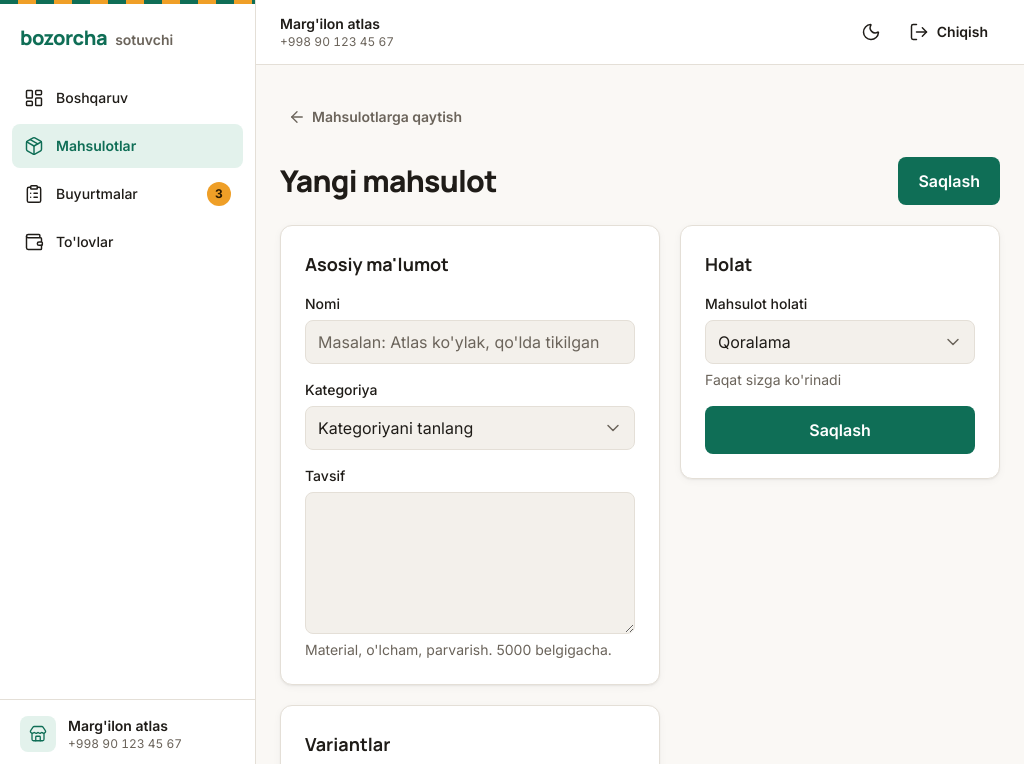
Test: ProductEditorPage: saving › keeps the draft and says why when the activation is refused
The width and height of the screenshot is (1024, 764).
Step 1. Type "Choynak" into the field labelled "Nomi" → (470, 342), box 305,320 -> 635,364
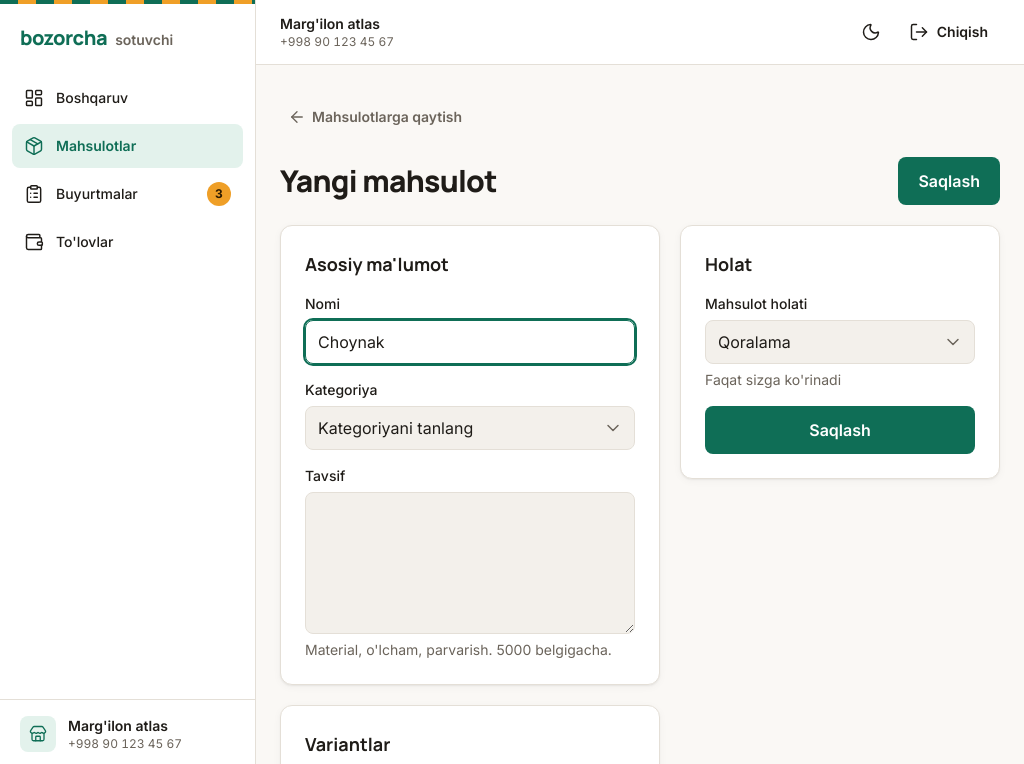
Step 2. Select "Ayollar kiyimi" in the dropdown labelled "Kategoriya" → (470, 428), box 305,406 -> 635,450
(page scrolled)
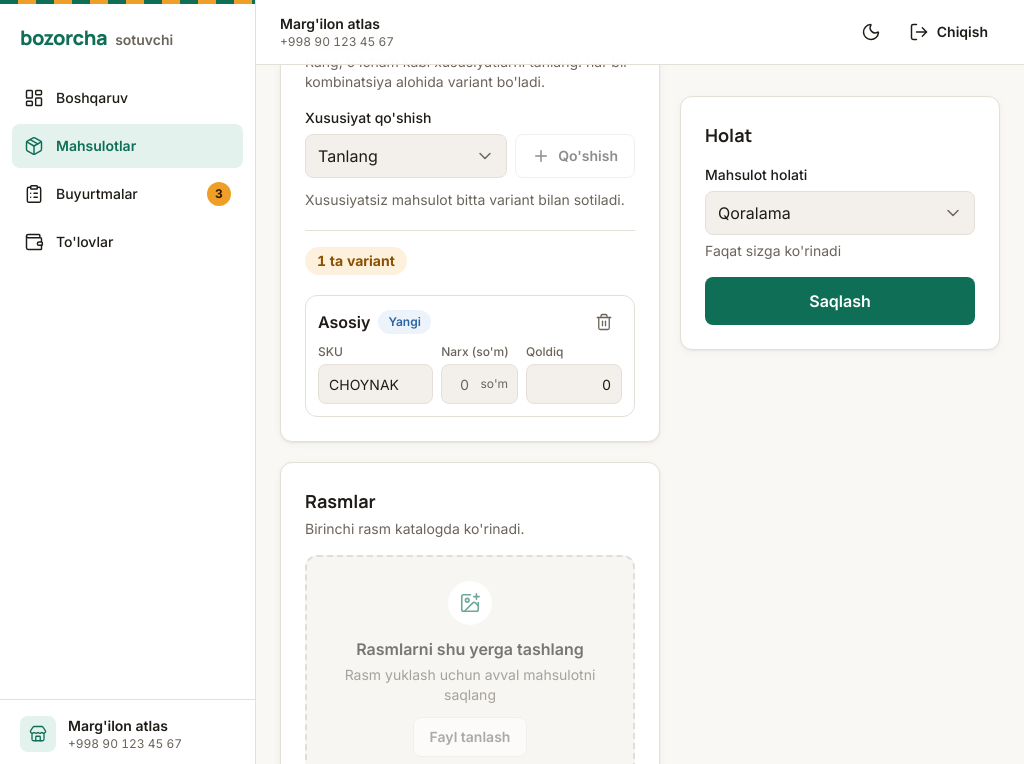
Step 3. Type "185000" into the field named "Narx, so'm: Asosiy" → (480, 384), box 441,364 -> 518,404
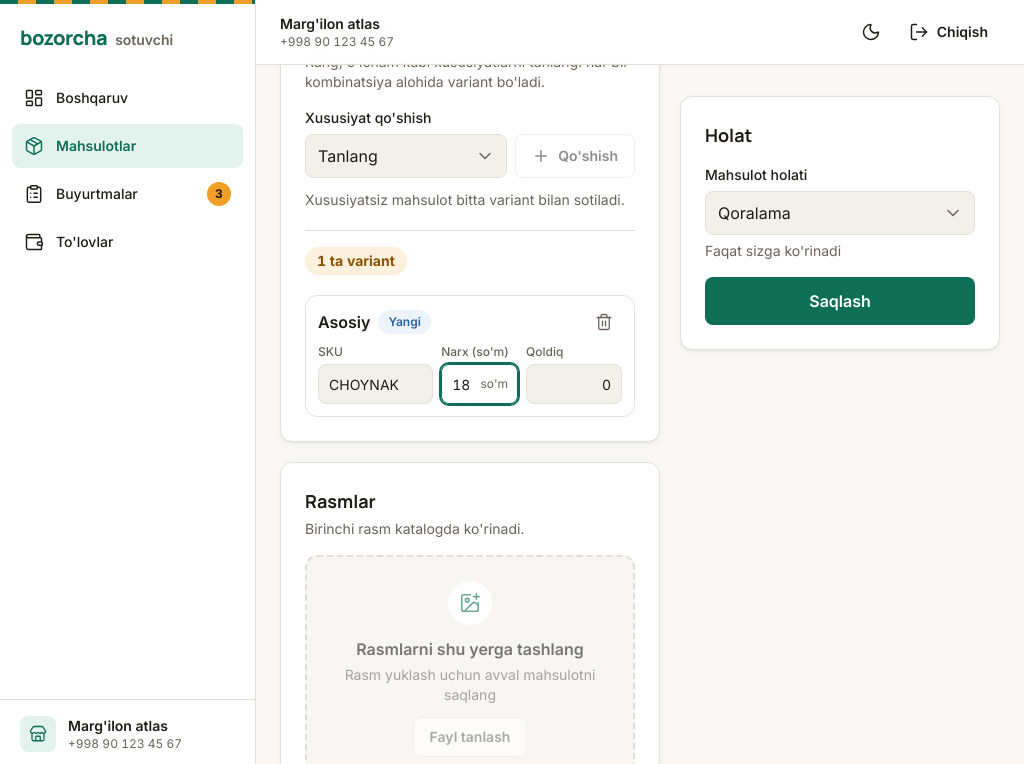
Step 4. Select "Sotuvda" in the dropdown labelled "Mahsulot holati" → (840, 213), box 705,191 -> 975,235
(page scrolled)
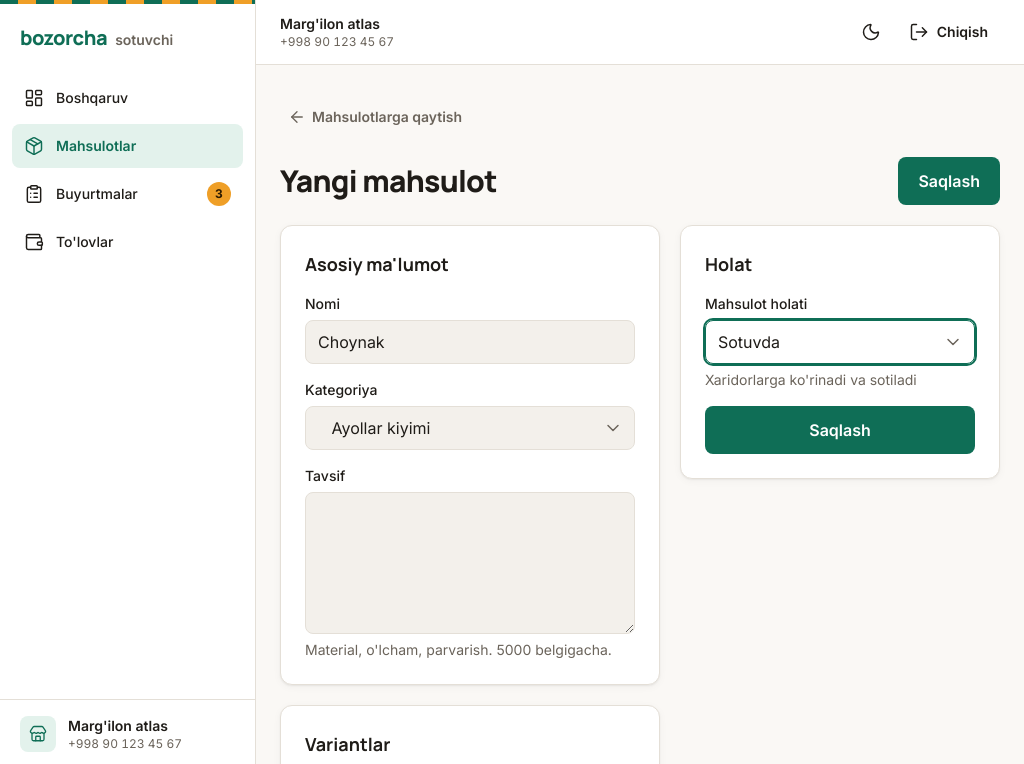
Step 5. Click the button "Saqlash" in the row of "Yangi mahsulot" → (949, 181), box 898,157 -> 1000,205
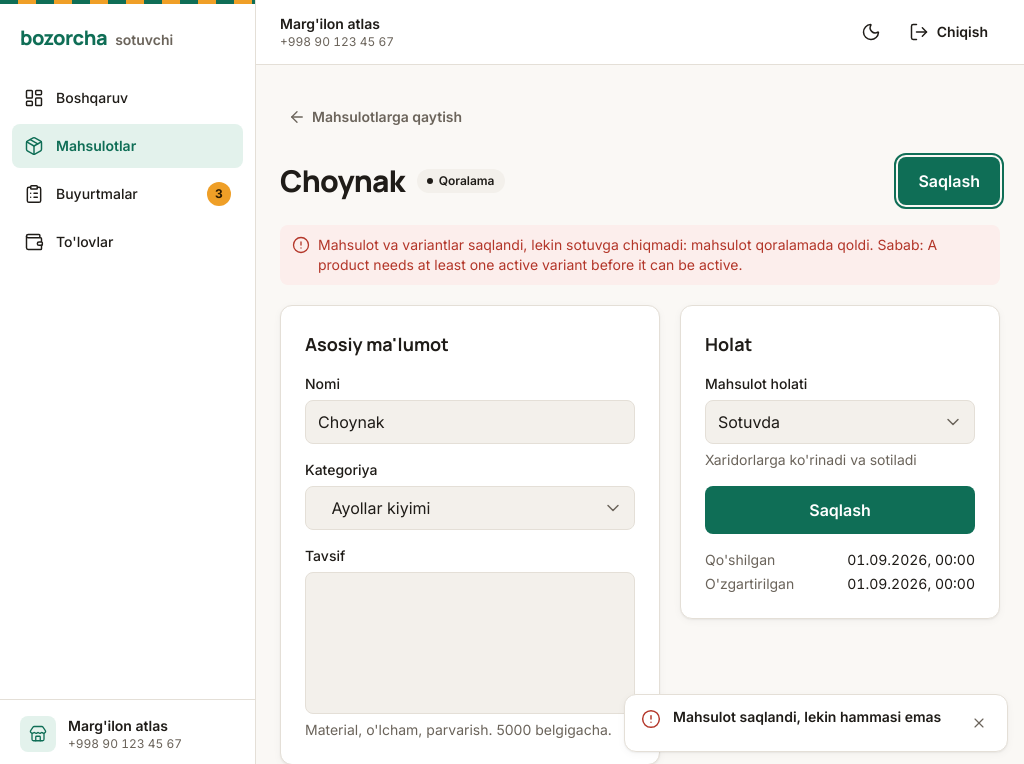
Check: the text "Mahsulot saqlandi, lekin hammasi emas" is shown, box 673,707 -> 951,727
